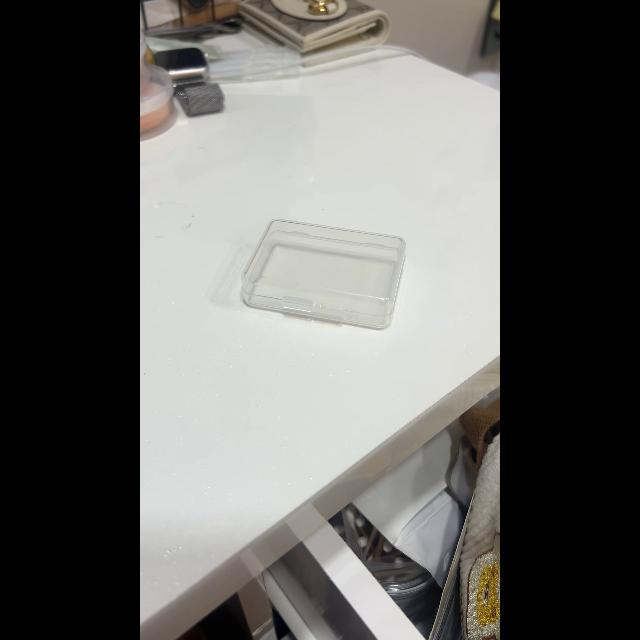clean: (244, 213, 408, 309)
